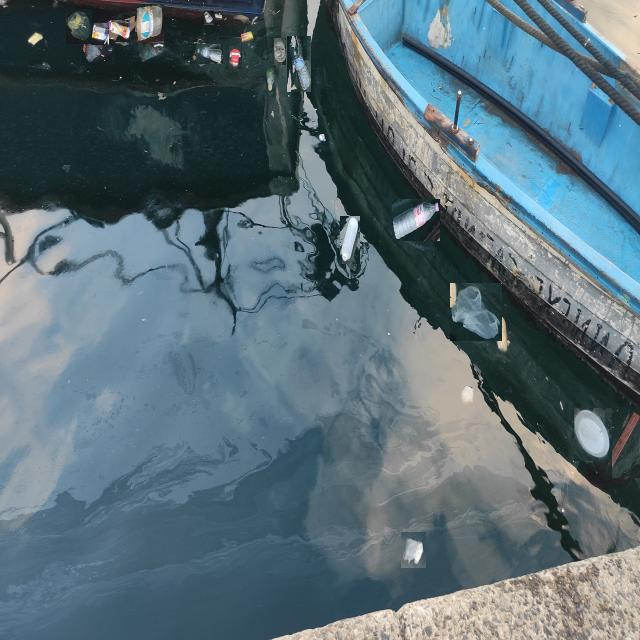Juice box: (91, 24, 109, 46)
Plastic: (574, 408, 612, 461), (401, 532, 426, 568), (29, 60, 52, 72), (61, 162, 72, 175), (157, 90, 167, 102), (318, 132, 327, 143), (214, 12, 223, 20)
Plastic bag: (450, 283, 502, 341), (66, 9, 92, 44), (82, 39, 115, 65)
Plastic bottle: (392, 200, 440, 242), (287, 36, 311, 92), (135, 4, 164, 43), (340, 216, 360, 264), (196, 44, 223, 64), (107, 20, 130, 42), (274, 38, 286, 65), (266, 68, 275, 92)
Plastic cup: (204, 11, 214, 25)
Plastic packaging: (229, 46, 242, 69), (27, 30, 44, 47)
Wood: (612, 410, 640, 478)
